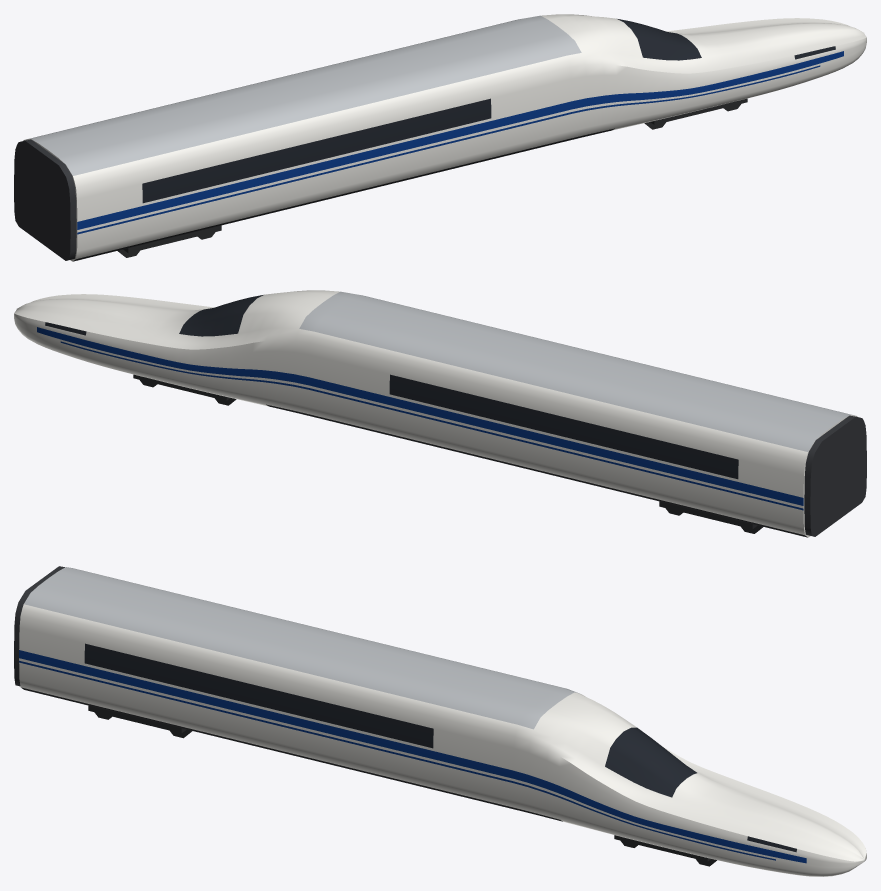
File: n700s-lead.glb
3 renders of one model, top to bottom at view 1: azimuth 30°, elevation 25°; view 2: azimuth 150°, elevation 25°; view 3: azimuth 330°, elevation 25°, orthographic.
Parts seen in each view (by area): view 1: N700S_Lead; view 2: N700S_Lead; view 3: N700S_Lead.
Part boxes in pixels (box(x1,y1,x2,y2)): N700S_Lead: box(14, 14, 866, 261); N700S_Lead: box(14, 290, 866, 537); N700S_Lead: box(14, 566, 866, 876).
Size of the model in its own units: 27.35 by 3.6 by 3.36.
